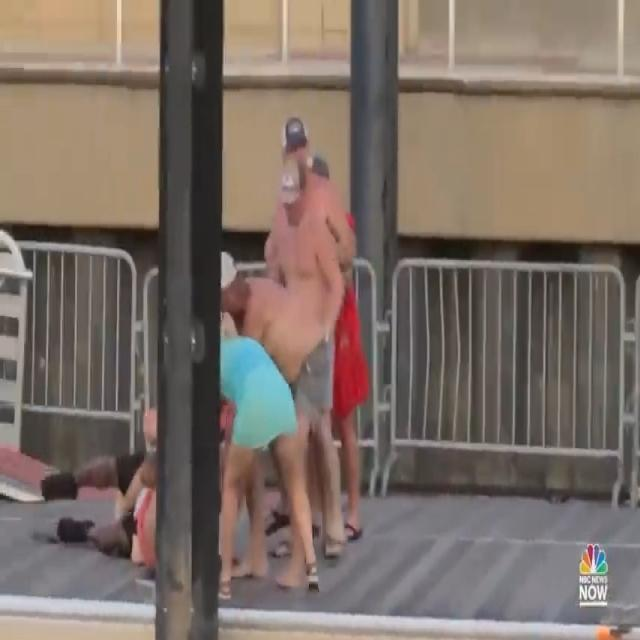fight: (32, 267, 331, 605)
